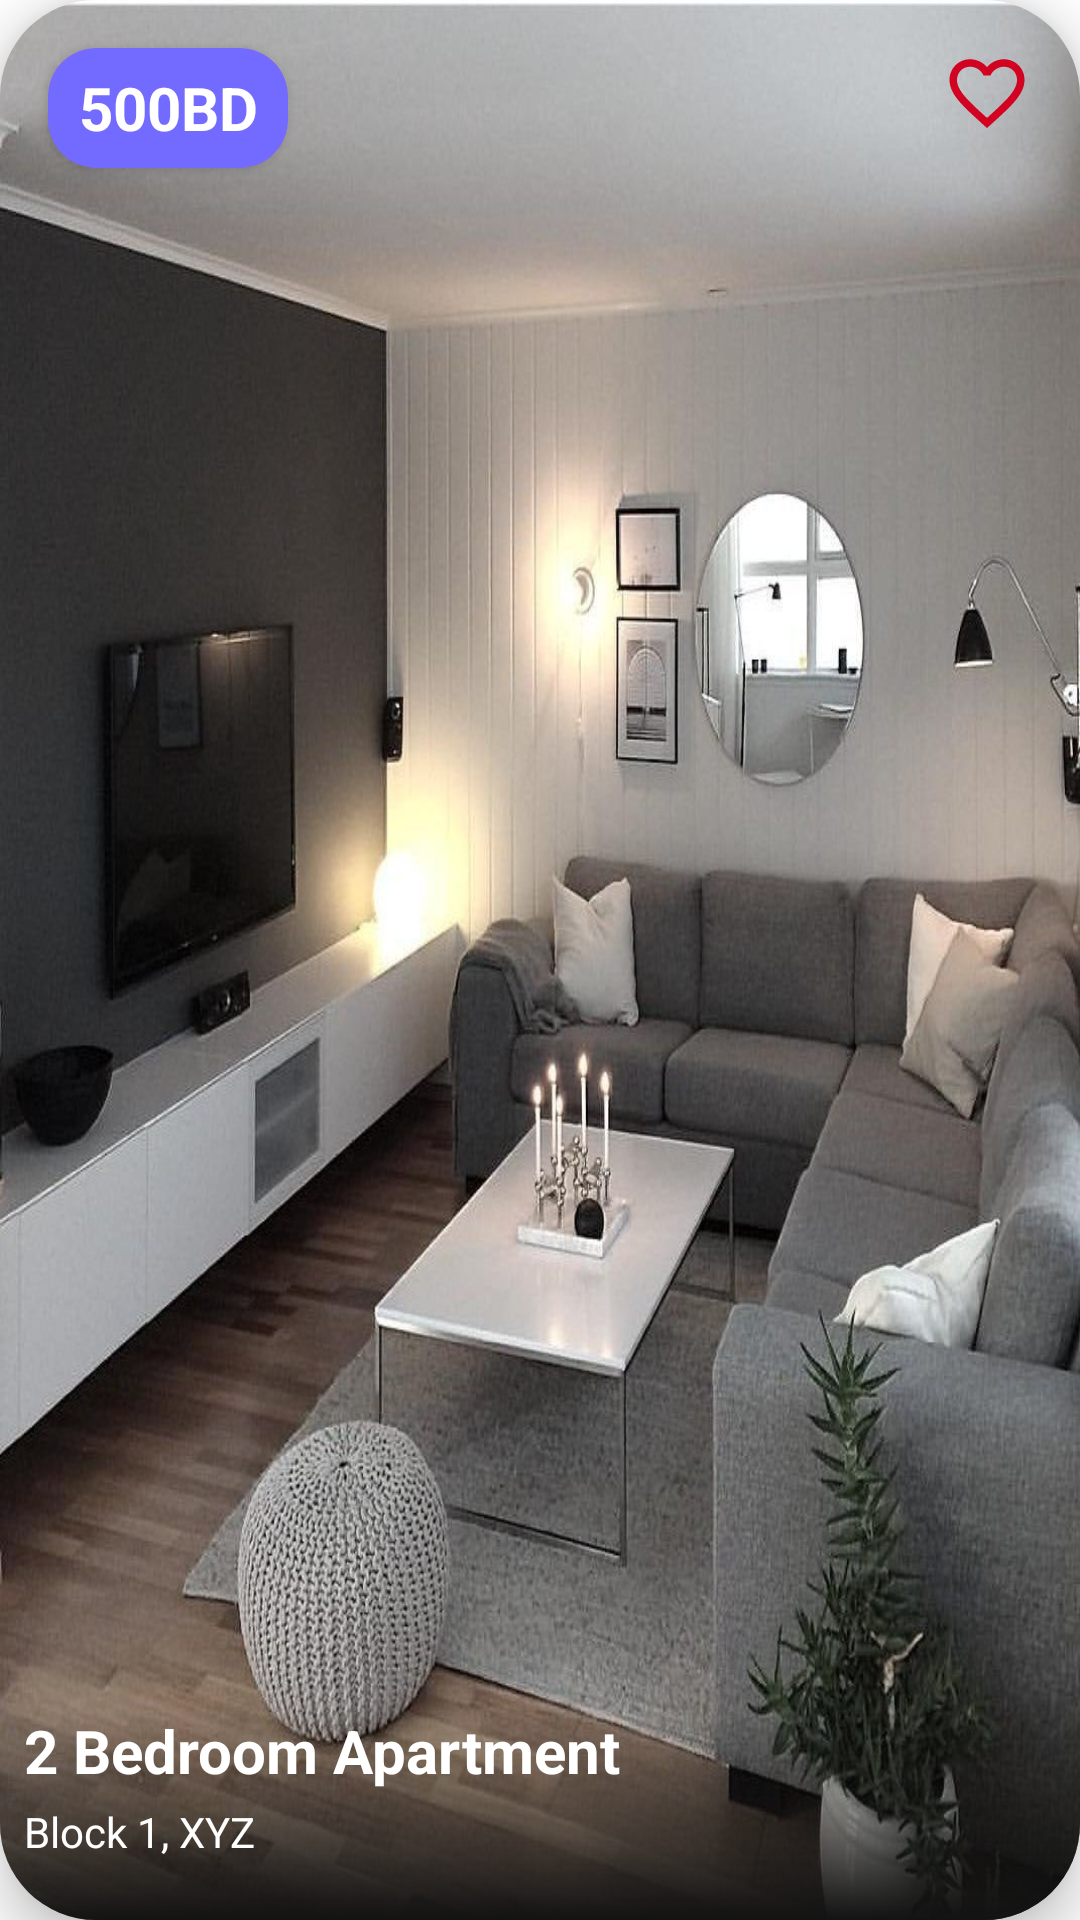

Named icons in this screenshot (1080 x 1920) and their centers, point (x, y):
empty favorite: point (987, 93)
